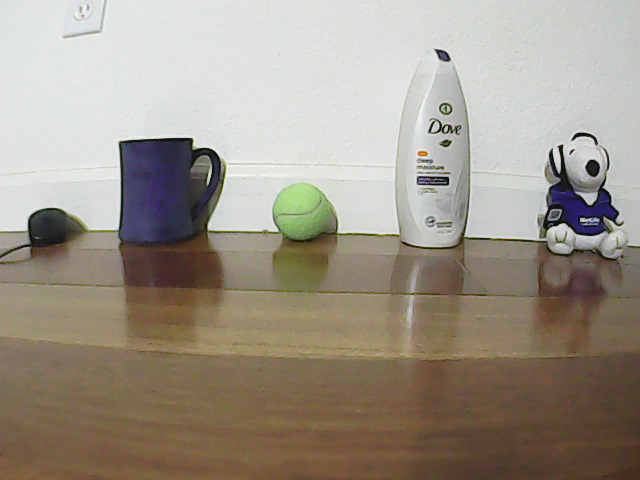ball: (273, 183, 336, 244)
mouse: (23, 199, 73, 254)
mug: (113, 136, 223, 248)
snoopy: (535, 134, 633, 265)
soap: (394, 45, 476, 253)
